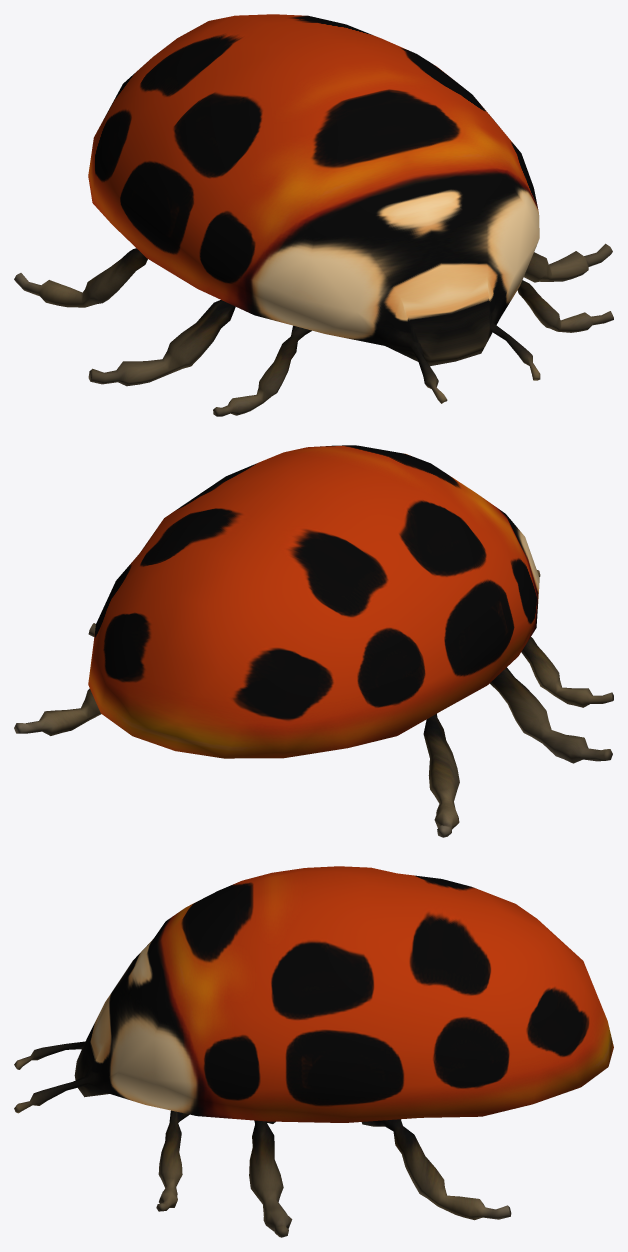
Rendered from ladybug.obj.
3 views of the same model, one above another, from view 1: azimuth 30°, elevation 25°; view 2: azimuth 150°, elevation 25°; view 3: azimuth 270°, elevation 25° (orthographic). The views are drawn at different scales.
Visible parts, largest first — view 1: ladybug; view 2: ladybug; view 3: ladybug.
Boxes of the visible parts, <box> form: ladybug: <box>14,14,613,416</box>; ladybug: <box>14,445,613,837</box>; ladybug: <box>14,866,613,1237</box>.
Size of the model in its own units: 1.47 by 0.6857 by 1.55.
Materials: 1 (1 with a texture image).
